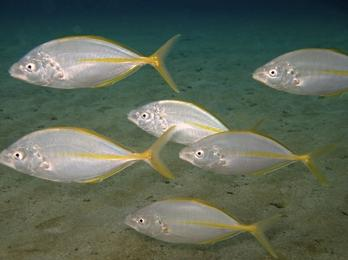Carangidae -Jacks-: (0, 120, 179, 191), (2, 26, 182, 96), (116, 191, 284, 260), (177, 125, 348, 185), (245, 44, 348, 101)
